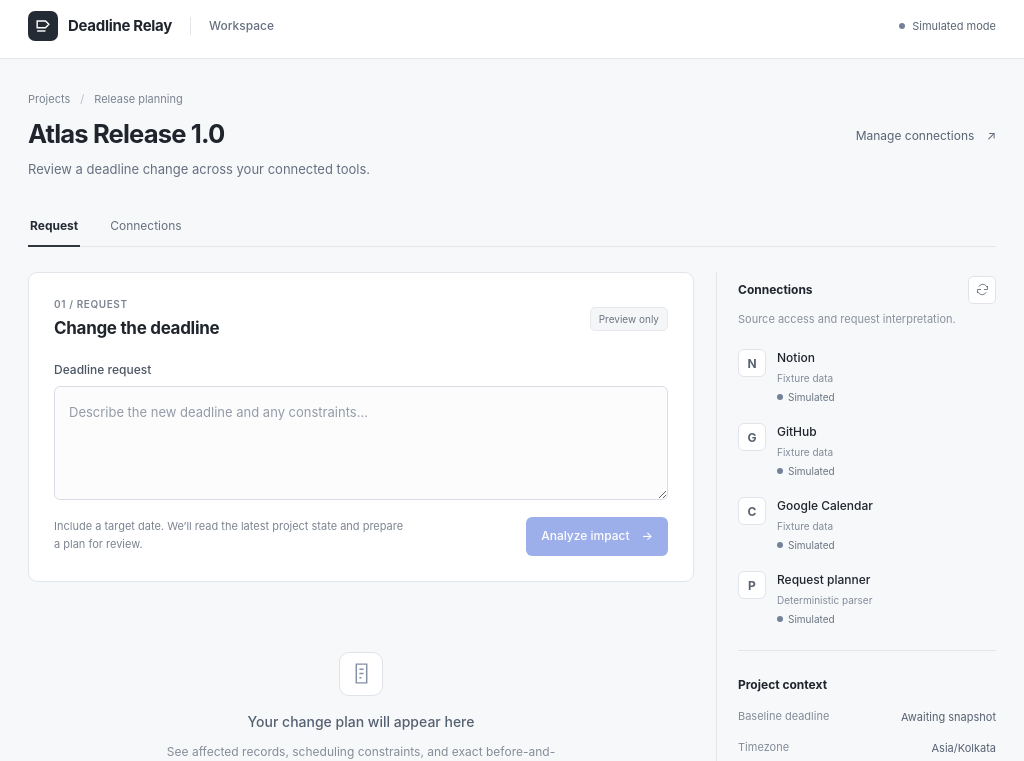
Test case: Deadline Relay workflow › uses real predecessor edges and keeps unrelated items outside the dependency chain
Expected: the text "Simulated mode" is shown, [899,18,996,32]
Type "Move Atlas Release 1.0 to September 18, 2026." into the text box labelled "Deadline request" at (361, 443), box [54,386,668,500]
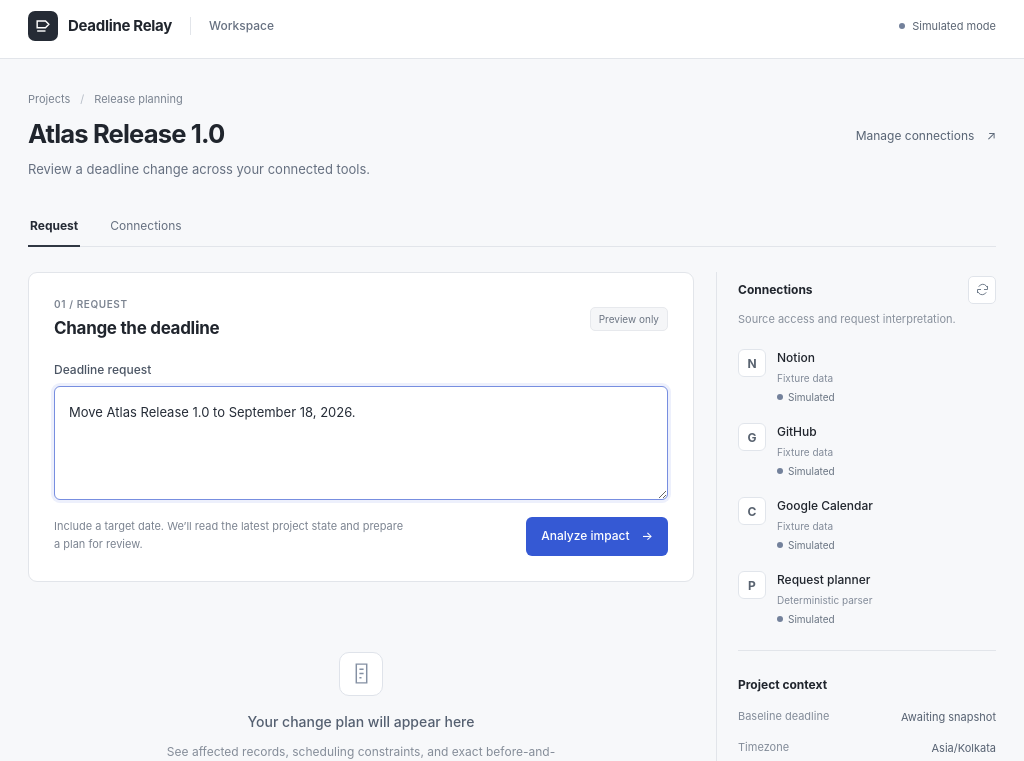
Click the button "Analyze impact →" at (597, 536), box [526,517,668,556]
(page scrolled)
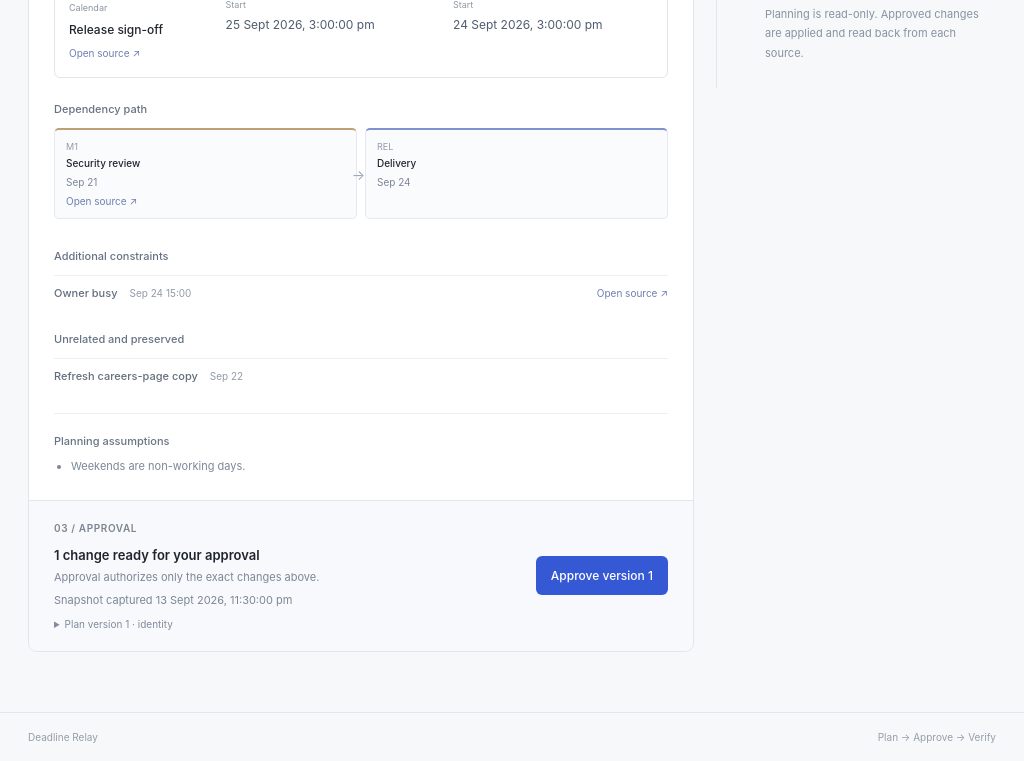
Result: the heading "Dependency path" is shown at [54,102,147,116]
Result: the heading "Additional constraints" is shown at [54,249,168,263]
Result: the text "Owner busy" is shown at [54,286,118,300]
